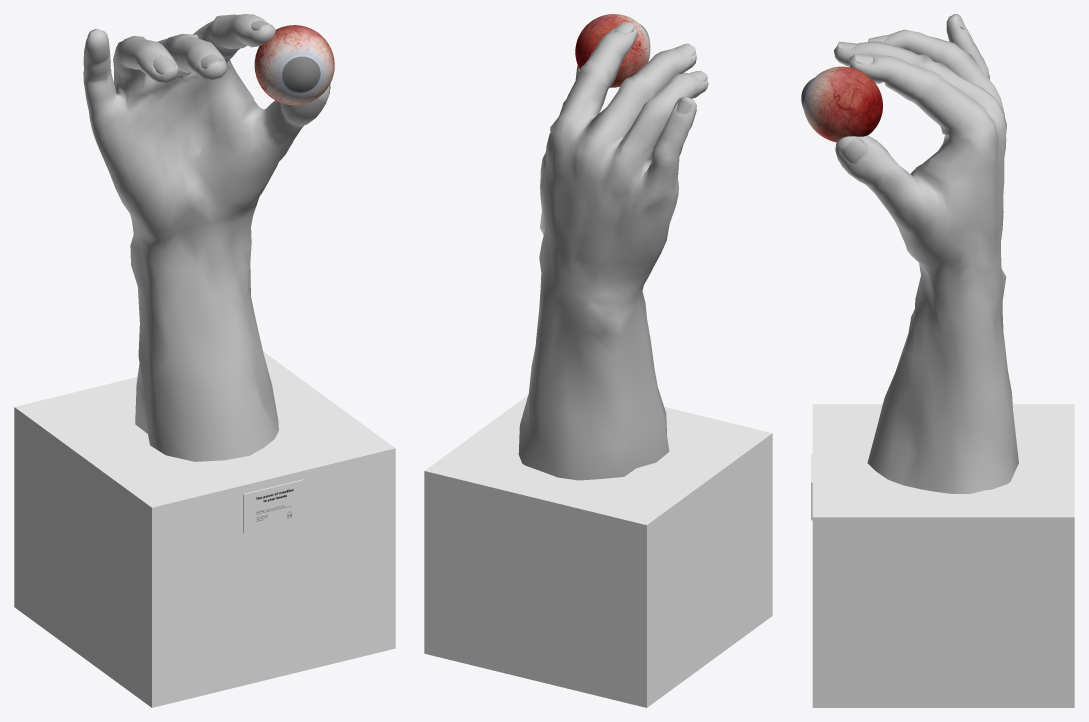
File: Hand 2.fbx
3 views of the same model, side by side, from view 1: azimuth 30°, elevation 25°; view 2: azimuth 150°, elevation 25°; view 3: azimuth 270°, elevation 25° (orthographic). The views are drawn at different scales.
Parts seen in each view (by area): view 1: hand 2, eye; view 2: hand 2, eye; view 3: hand 2, eye.
Part boxes in pixels (x1=…): hand 2: x1=14, y1=14, x2=395, y2=707; eye: x1=254, y1=25, x2=334, y2=105; hand 2: x1=424, y1=22, x2=772, y2=707; eye: x1=575, y1=14, x2=650, y2=87; hand 2: x1=811, y1=14, x2=1074, y2=707; eye: x1=801, y1=66, x2=882, y2=142.
Size of the model in its own units: 99.06 by 246 by 101.
